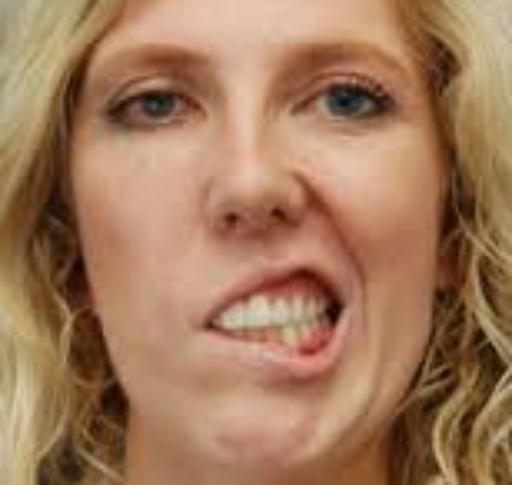left_eye: (291, 84, 395, 125)
left_lip_corner: (327, 289, 363, 322)
right_eye: (111, 89, 205, 129)
right_lip_corner: (189, 301, 228, 349)
